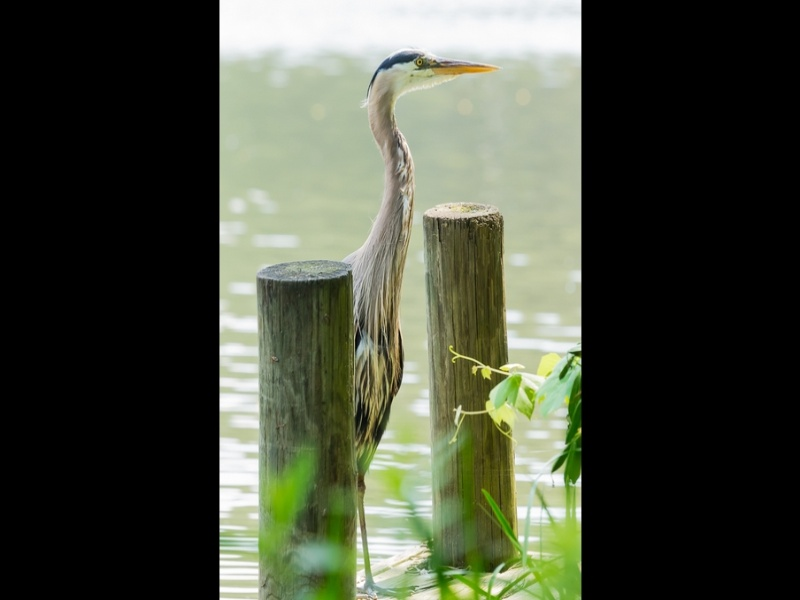heron: (350, 49, 500, 574)
